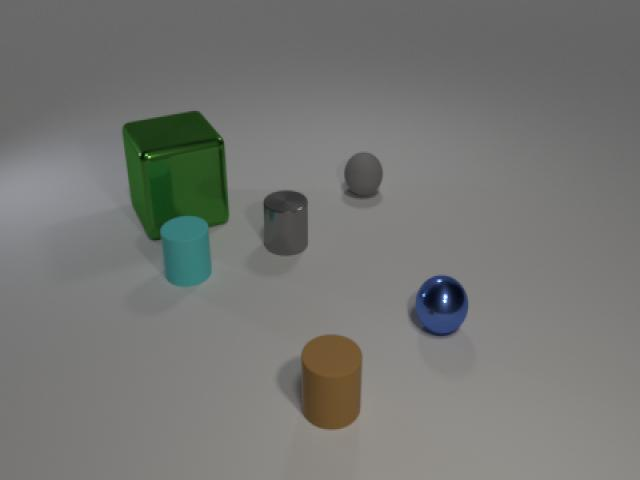cylinder: (296, 328, 366, 434), (256, 184, 314, 260), (157, 214, 215, 290)
round ball: (408, 266, 474, 340), (339, 145, 386, 206)
